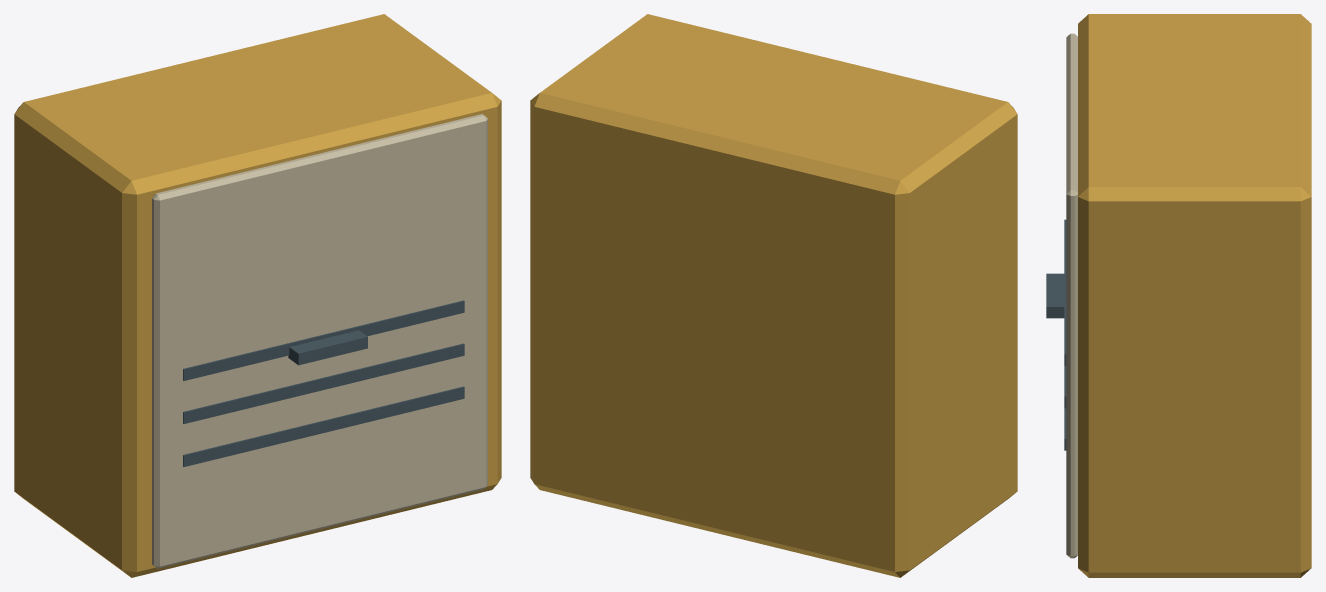
The model's file is portable_generator.glb.
3 views of the same model, side by side, from view 1: azimuth 30°, elevation 25°; view 2: azimuth 150°, elevation 25°; view 3: azimuth 270°, elevation 25° (orthographic).
Parts seen in each view (by area): view 1: portable_generator; view 2: portable_generator; view 3: portable_generator.
Boxes of the visible parts, x1=… form: portable_generator: x1=14, y1=14, x2=501, y2=577; portable_generator: x1=530, y1=14, x2=1017, y2=577; portable_generator: x1=1046, y1=14, x2=1311, y2=577.
Bounding box in the file's own units: 1.2 × 1.2 × 0.7375.
